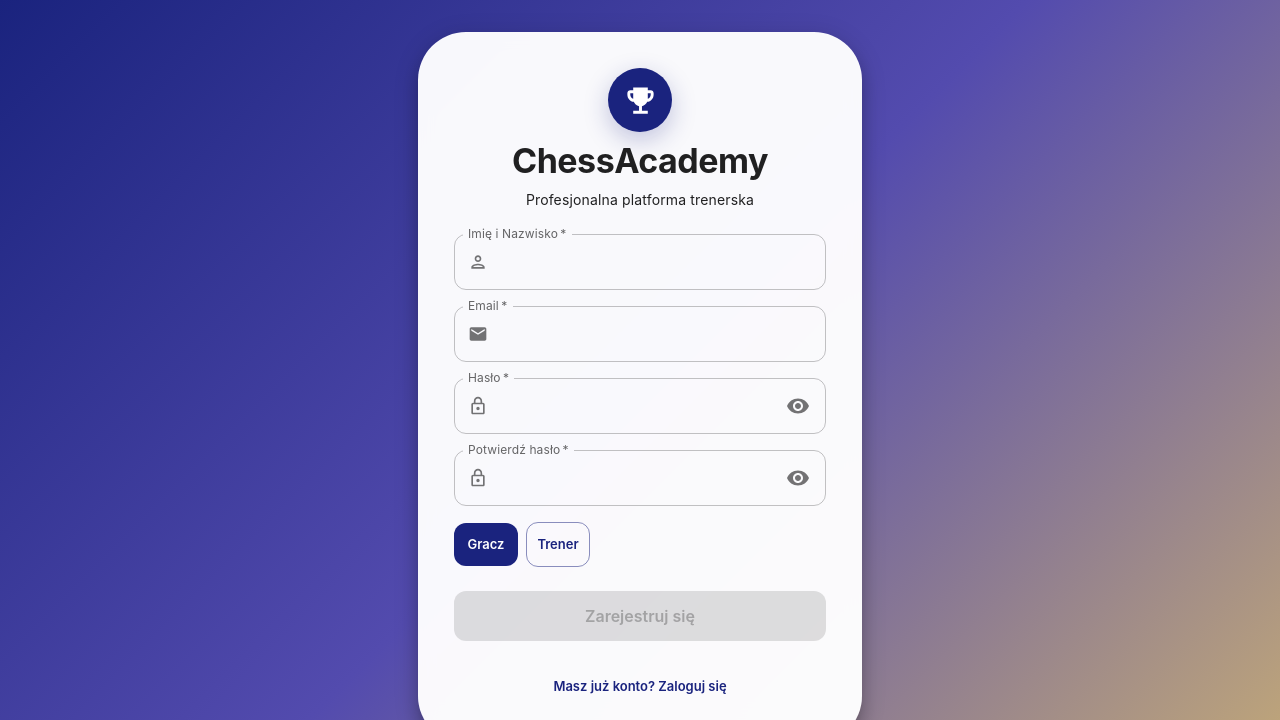
Test: RegisterView › submit button becomes enabled when all fields are valid
Type "Jan Kowalski" into the field labelled "Imię i Nazwisko *" at (661, 262), box x1=496 y1=234 x2=826 y2=290
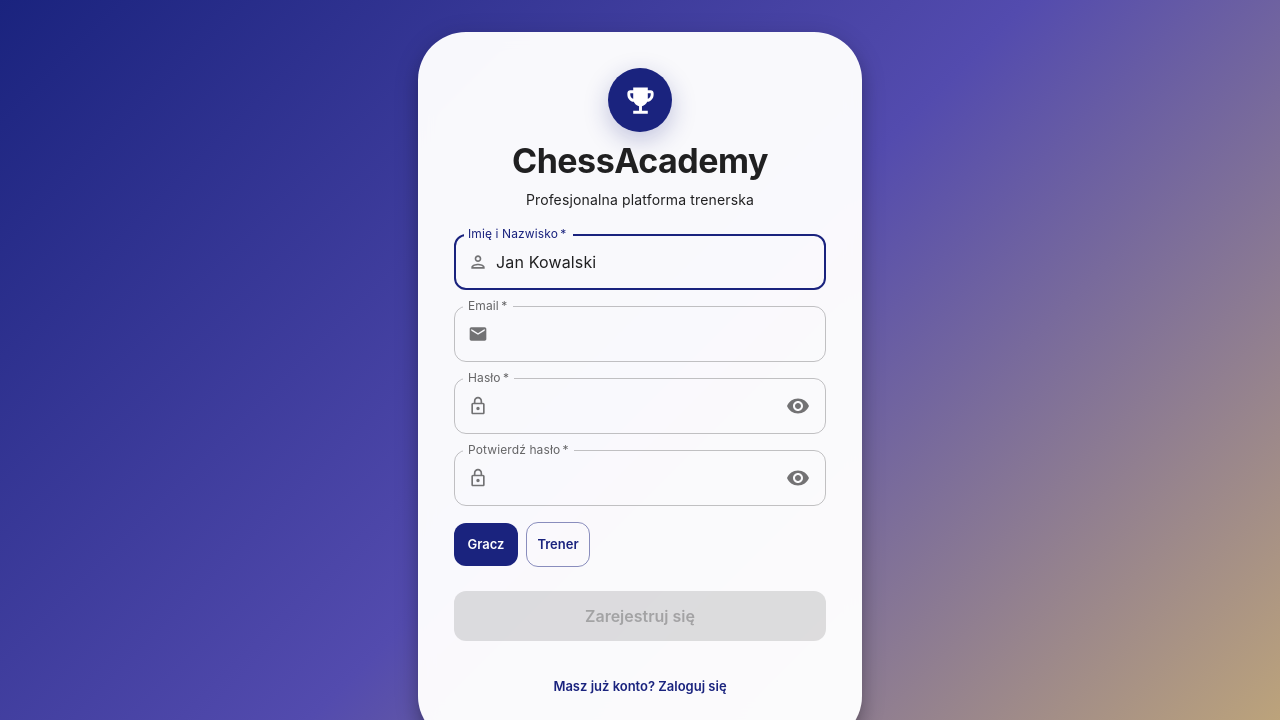
Type "jan@chess.local" into the field labelled "Email *" at (661, 334), box x1=496 y1=306 x2=826 y2=362
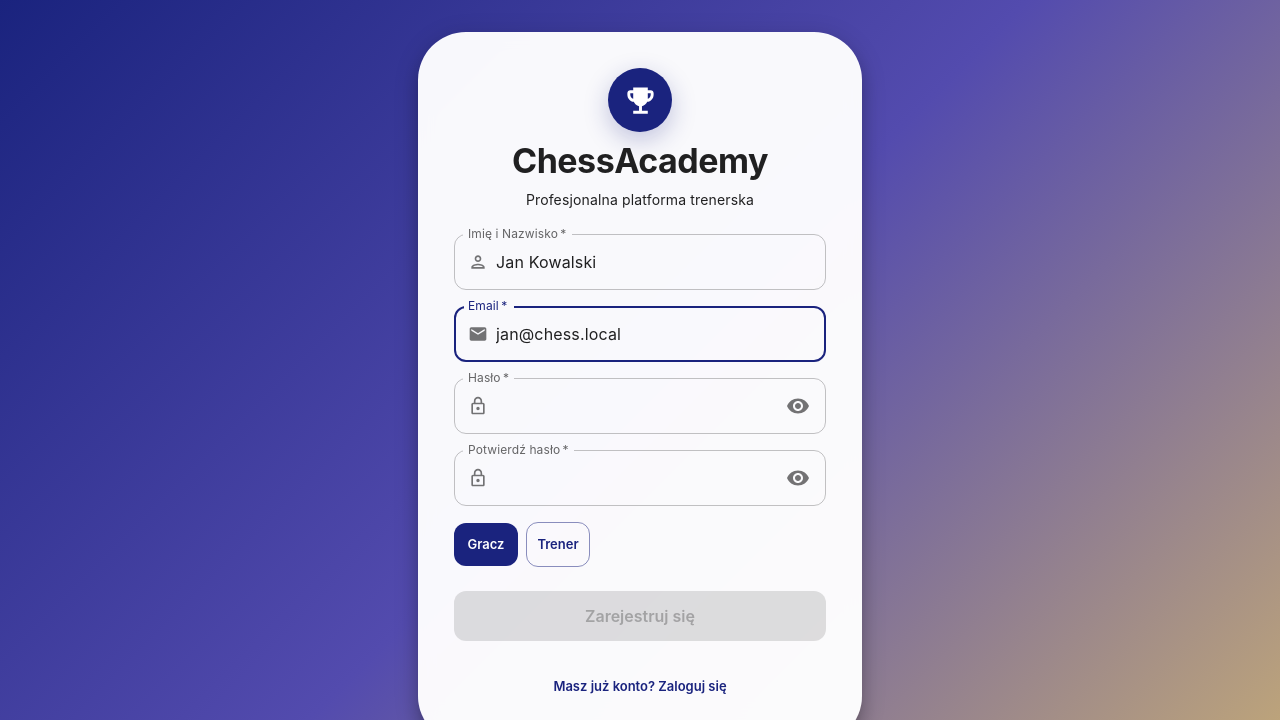
Type "Password123!" into the password field labelled "Hasło *" at (634, 406), box x1=496 y1=378 x2=773 y2=434
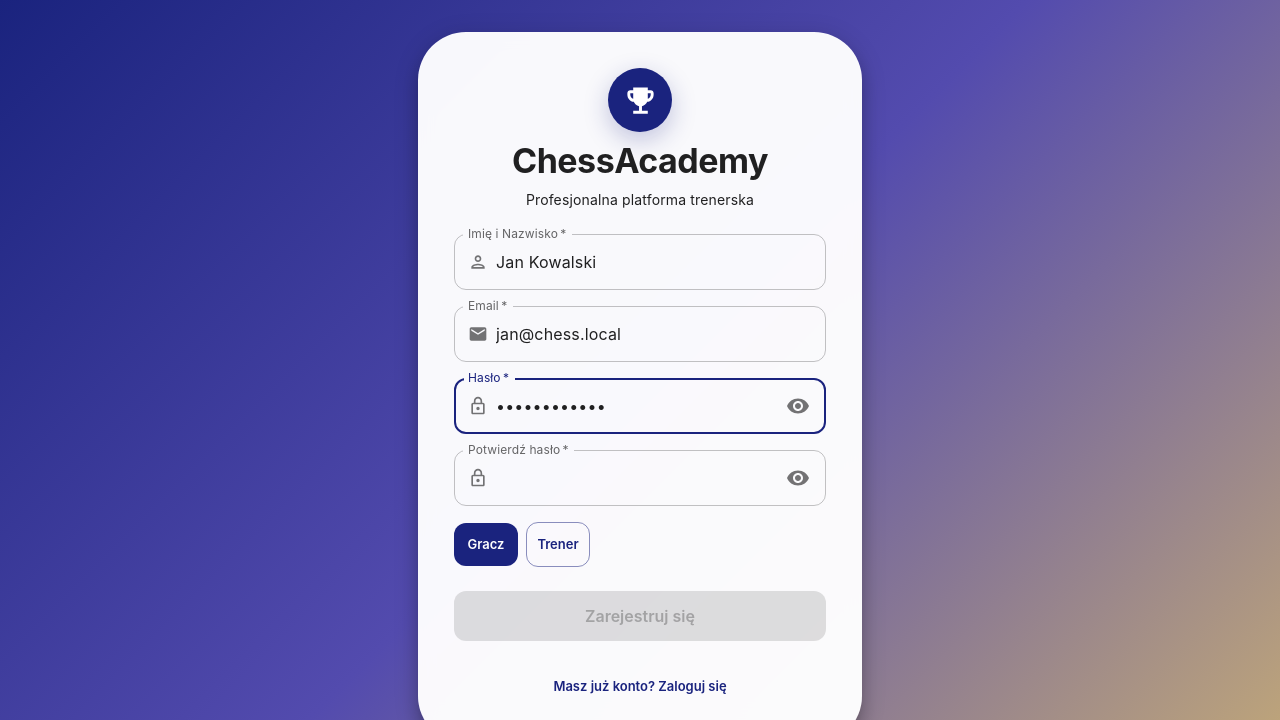
Type "Password123!" into the password field labelled "Potwierdź hasło *" at (634, 478), box x1=496 y1=450 x2=773 y2=506
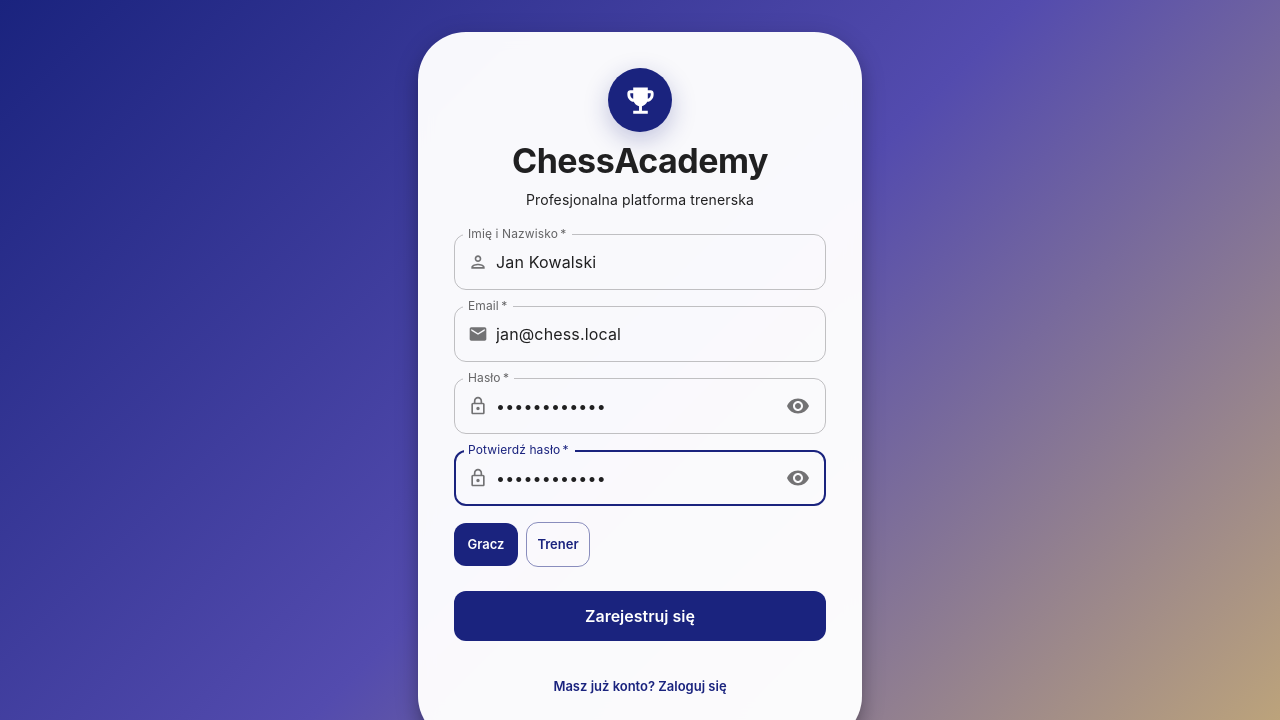
Now the button "Zarejestruj się" is enabled, box x1=454 y1=591 x2=826 y2=641
